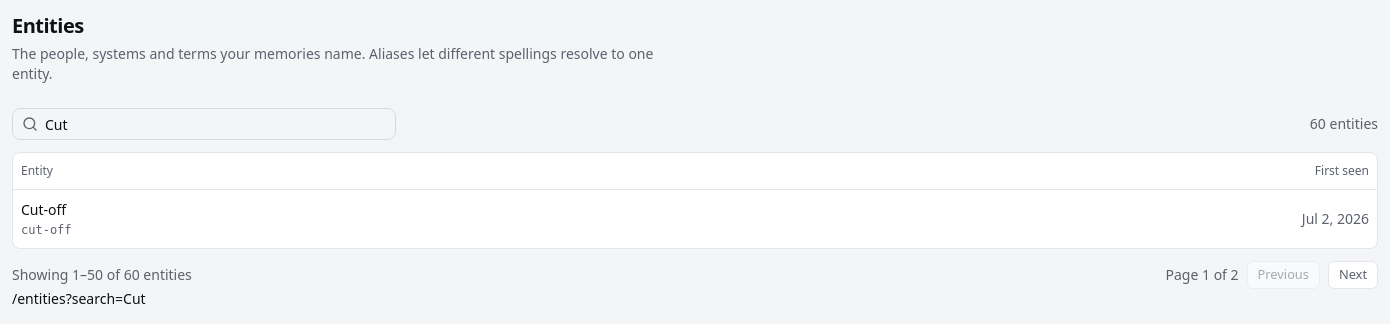
reads the search from the URL, searches as the user types and pages through the results
Check: the search field named "Search entities" holds "Cut", box [12,108,396,140]
Check: the link "Cut-off" is shown, box [21,200,66,218]
Click the button "Next". click: (1353, 274)
box: [1328,260,1378,288]
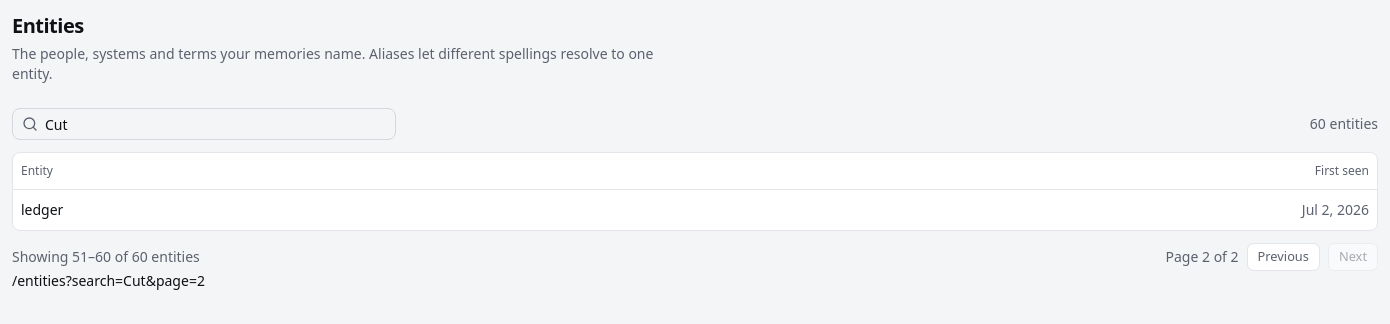
Check: the link "ledger" is shown, box [21,200,63,218]
Check: the text named "Location" reads "/entities?search=Cut&page=2", box [12,270,205,290]
Replace the text in the search field named "Search entities" with "led". click: (204, 124)
box: [12,108,396,140]
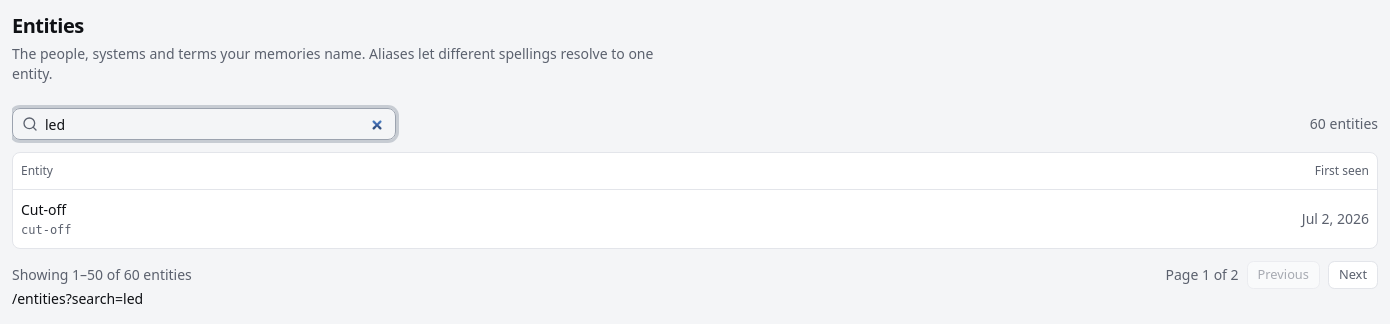
Check: the text named "Location" reads "/entities?search=led", box [12,288,143,308]
